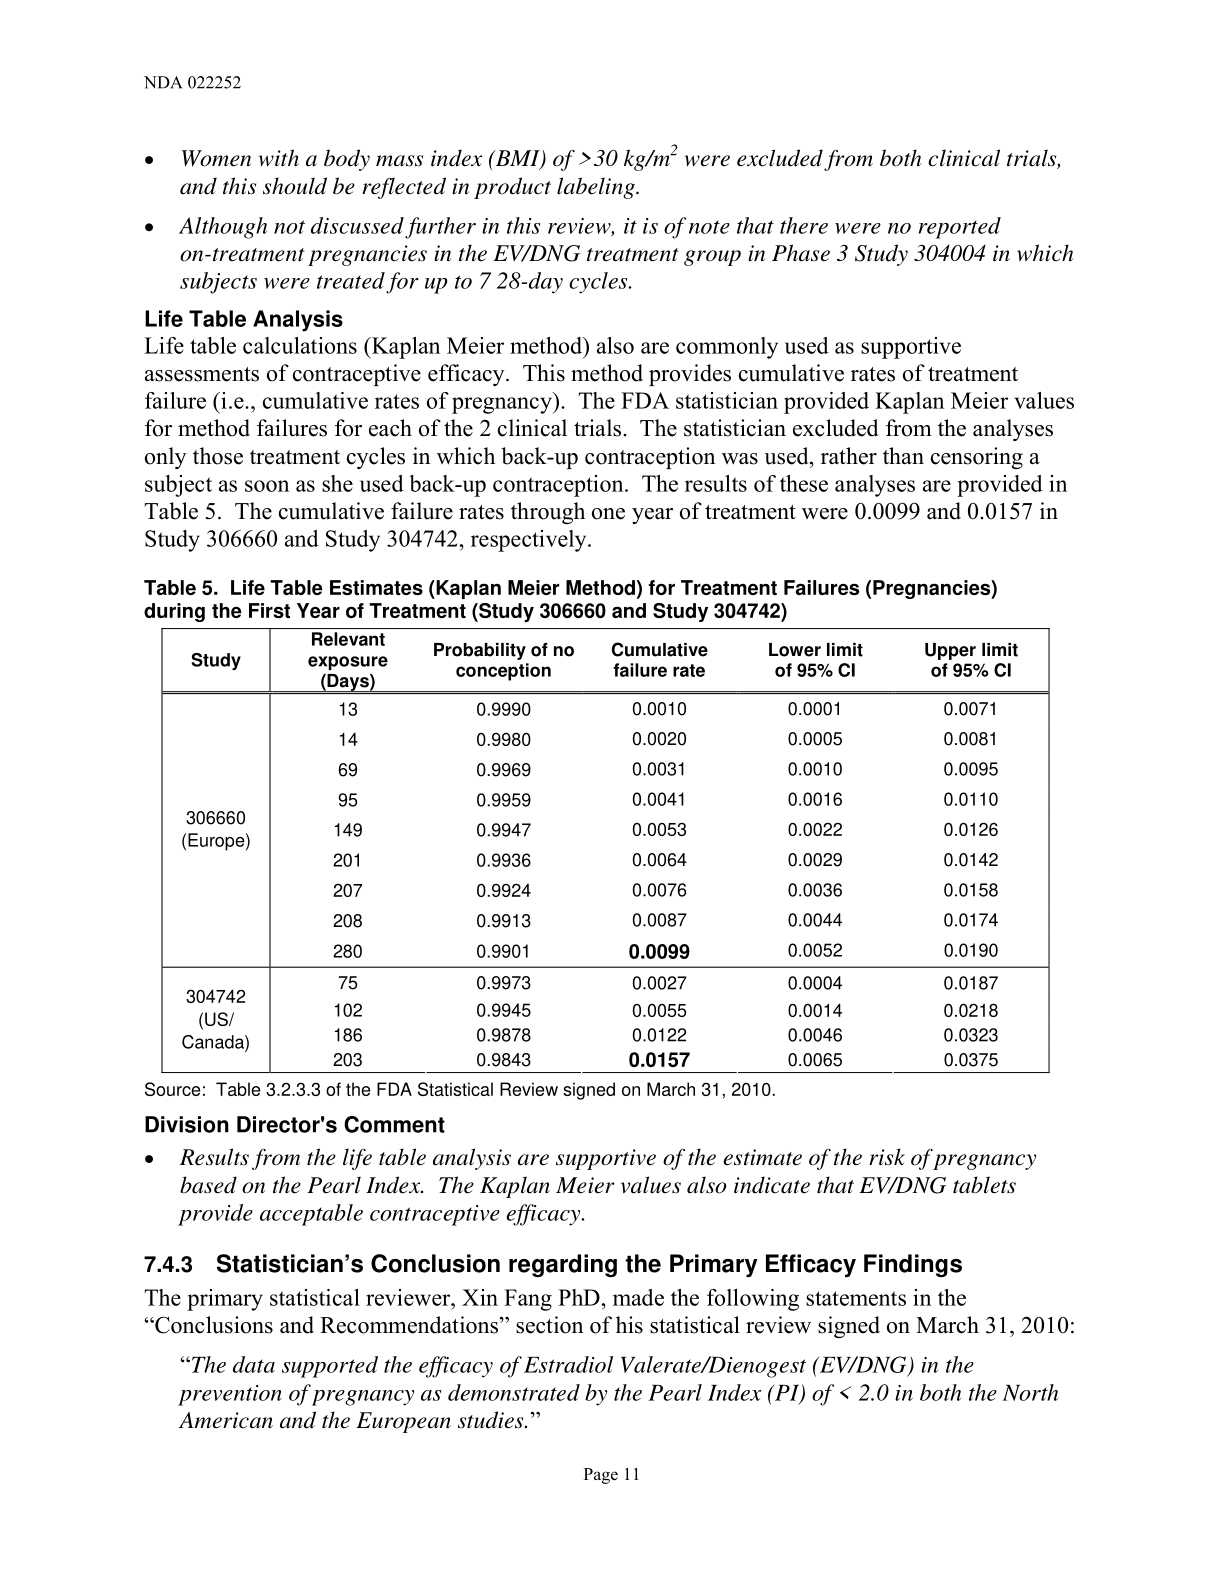partial_lined_merged_cells: (159, 626, 1050, 1074)
